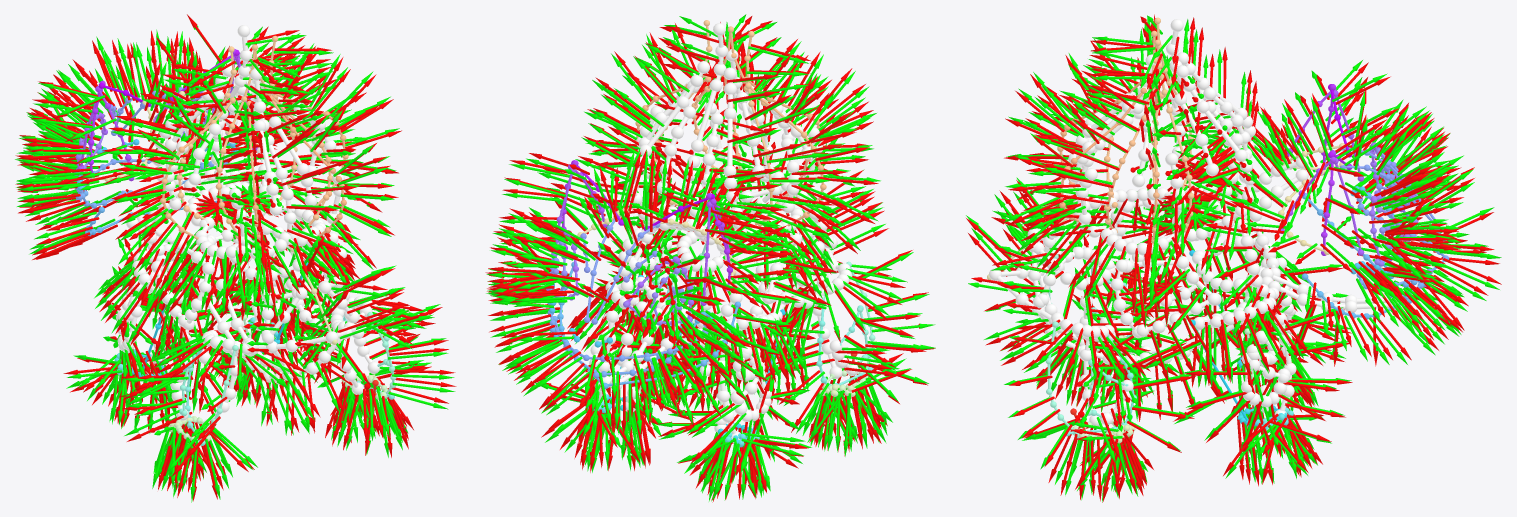
Rendered from author1_bulbasaur.gltf.
The picture shows the model from 3 angles, left to right: view 1: azimuth 30°, elevation 25°; view 2: azimuth 150°, elevation 25°; view 3: azimuth 270°, elevation 25°; orthographic projection. The views are drawn at different scales.
Size of the model in its own units: 0.5685 by 0.7239 by 0.819.
